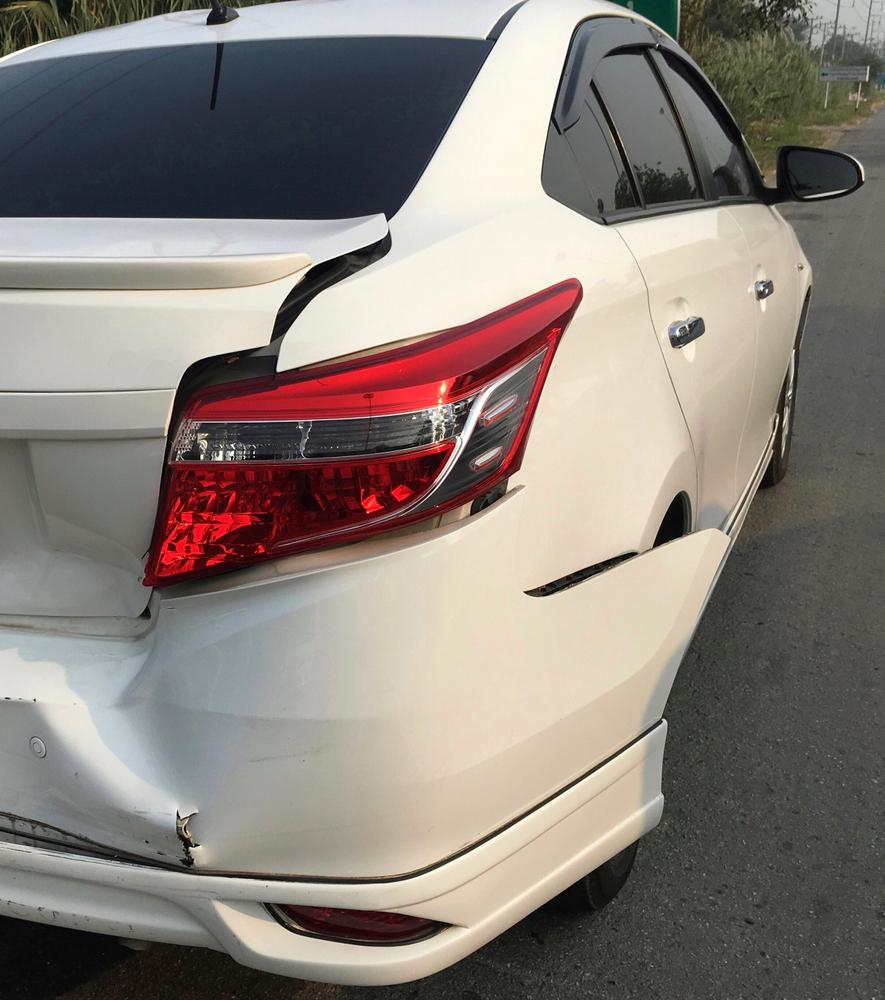crack: (174, 808, 203, 868)
dent: (49, 649, 207, 830)
